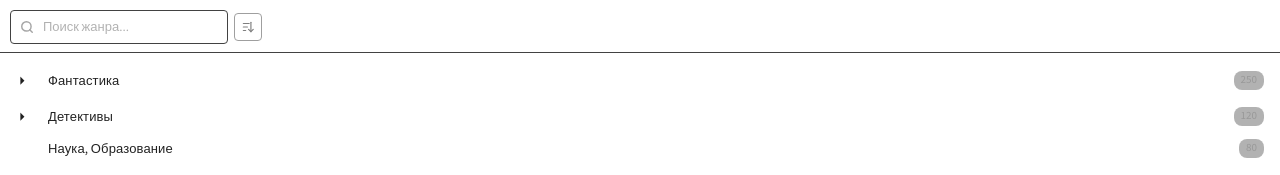
Scenario: GenresTab › clears search and restores full tree
The image size is (1280, 175).
Step 1. Type "Фант" into the field with placeholder "Поиск жанра..." → (119, 27), box x1=10 y1=10 x2=228 y2=44
Wait 300 ms
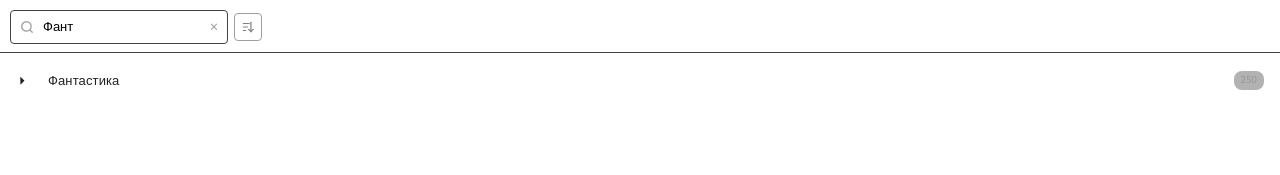
Result: the button with class "search-input-clear" is shown
Step 2. Click the button with class "search-input-clear" → (214, 27), box x1=206 y1=19 x2=222 y2=35
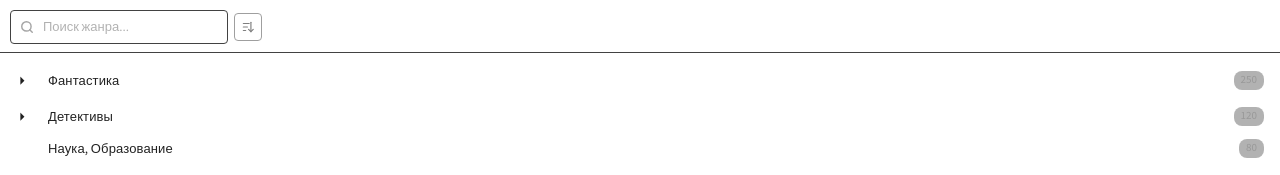
Result: the field with placeholder "Поиск жанра..." is empty at x1=10 y1=10 x2=228 y2=44
